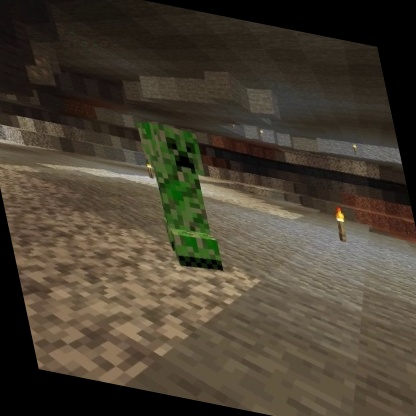creeper: (132, 117, 232, 278)
